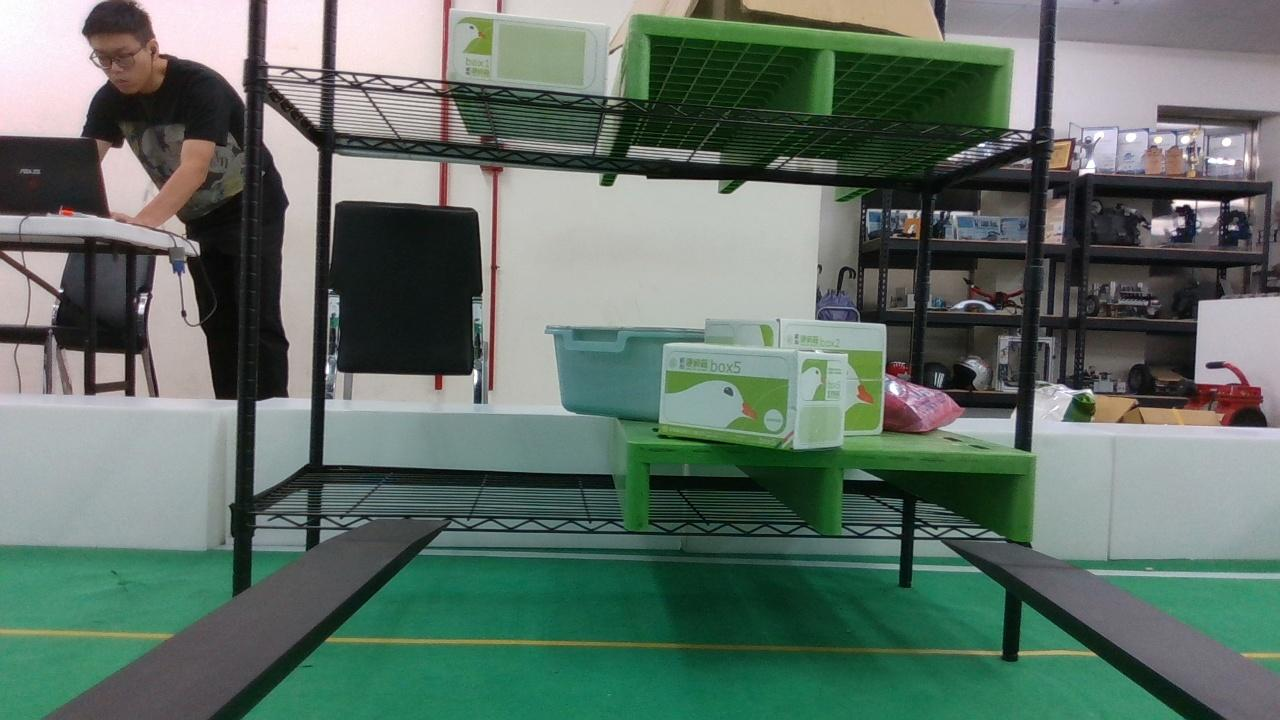Pallet: (626, 15, 1017, 134), (624, 443, 1036, 543)
